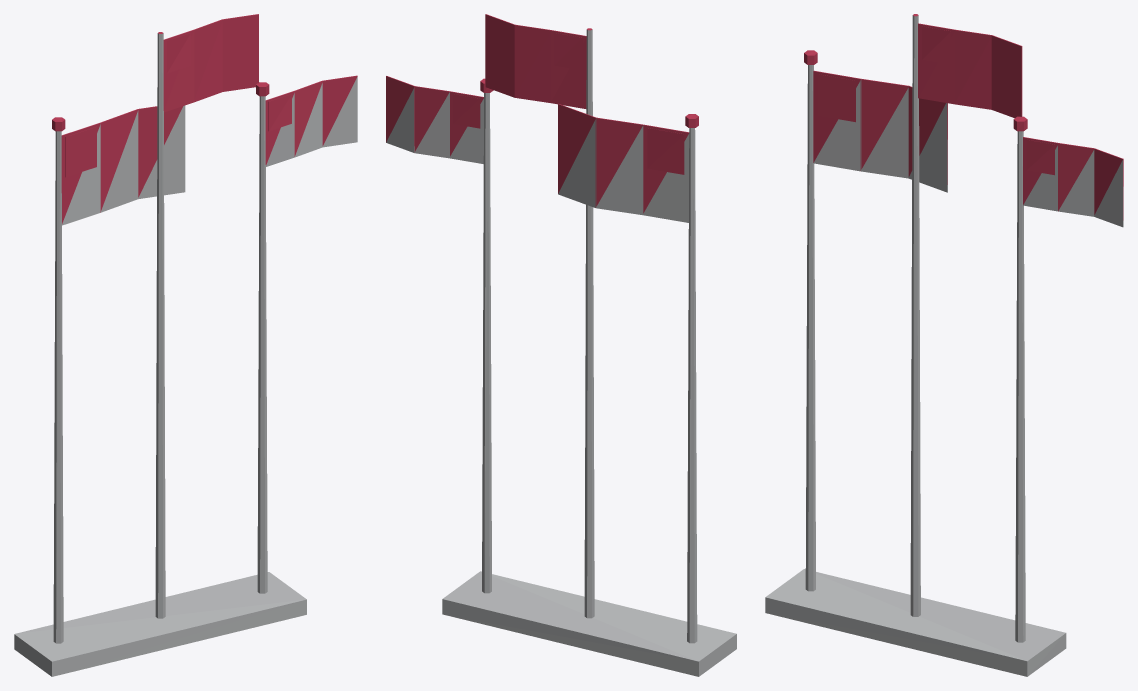
Rendered from flag-pole-00.glb.
The picture shows the model from 3 angles, left to right: view 1: azimuth 30°, elevation 25°; view 2: azimuth 150°, elevation 25°; view 3: azimuth 330°, elevation 25°; orthographic projection. The views are drawn at different scales.
Parts seen in each view (by area): view 1: flag_pole_00; view 2: flag_pole_00; view 3: flag_pole_00.
Boxes of the visible parts, x1=… form: flag_pole_00: x1=14, y1=14, x2=357, y2=676; flag_pole_00: x1=386, y1=14, x2=736, y2=676; flag_pole_00: x1=765, y1=14, x2=1123, y2=676.
Bounding box in the file's own units: 4.49 × 7.86 × 0.8996.
